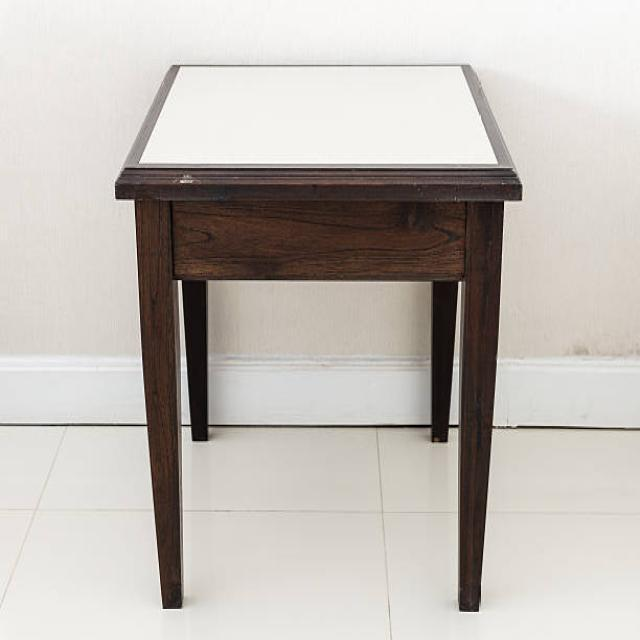table: (114, 60, 523, 612)
